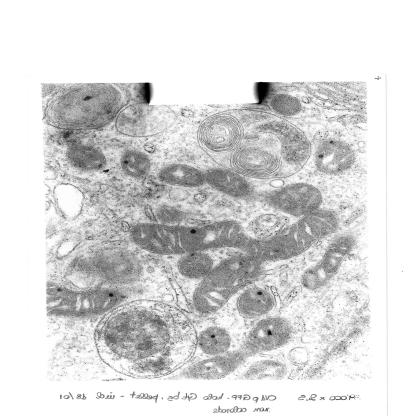mitochondria: (127, 220, 266, 258), (259, 209, 345, 262), (192, 255, 266, 316), (297, 236, 370, 292), (47, 282, 120, 318), (309, 136, 358, 176), (269, 182, 321, 216), (244, 316, 291, 352), (61, 142, 108, 173), (200, 170, 253, 196), (153, 165, 208, 186), (234, 289, 274, 317), (174, 252, 212, 280), (118, 151, 154, 180), (267, 92, 308, 116), (198, 326, 233, 354)
